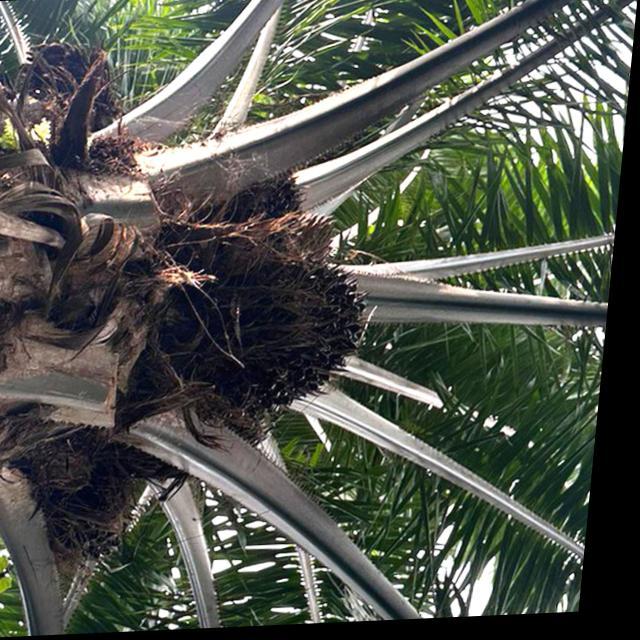ripe: (175, 236, 398, 434)
